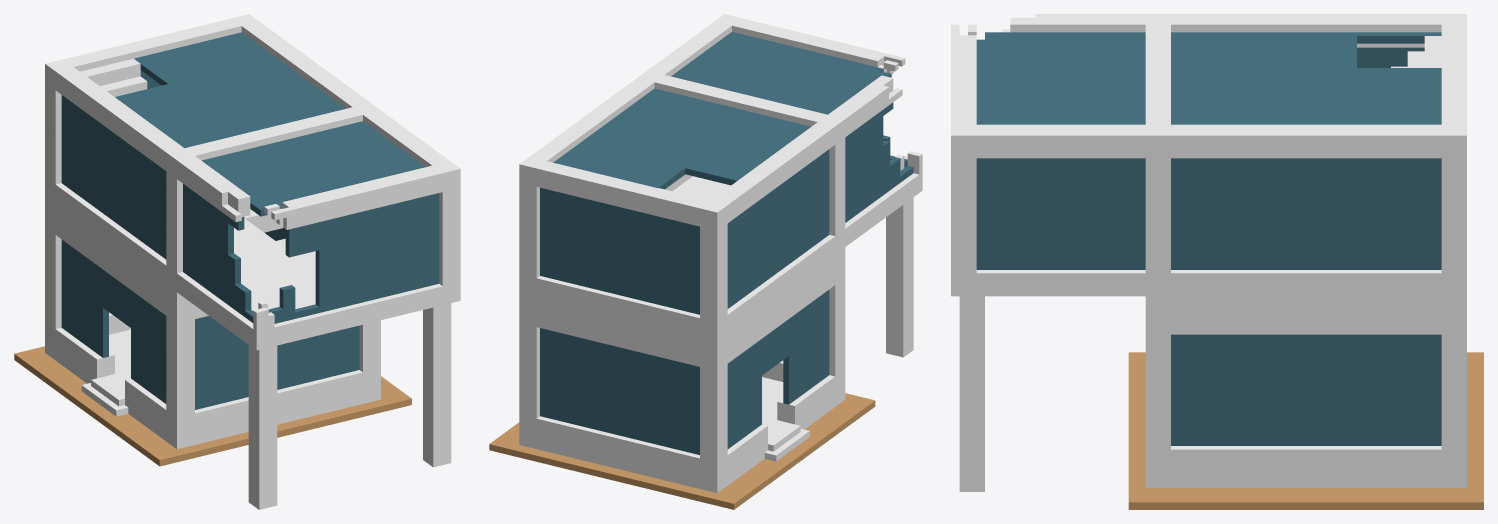
File: basic_building1_obj.obj
3 renders of one model, left to right at view 1: azimuth 30°, elevation 25°; view 2: azimuth 150°, elevation 25°; view 3: azimuth 270°, elevation 25°, orthographic. The views are drawn at different scales.
Size of the model in its own units: 42 by 47 by 63.
Materials: 1 (1 with a texture image).
